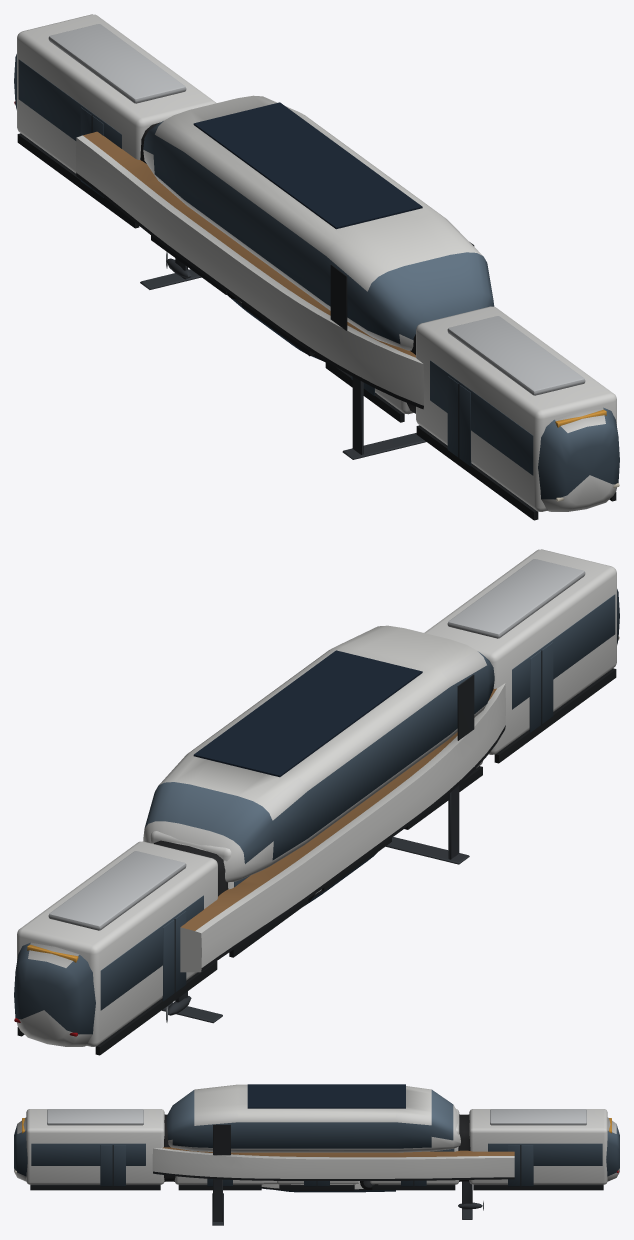
The model's file is vehicles.glb.
3 renders of one model, top to bottom at view 1: azimuth 30°, elevation 25°; view 2: azimuth 150°, elevation 25°; view 3: azimuth 270°, elevation 25°, orthographic. The views are drawn at different scales.
Parts seen in each view (by area): view 1: hydrofoil, tram; view 2: hydrofoil, tram; view 3: hydrofoil, tram, watertaxi.
Boxes of the visible parts, x1=… form: hydrofoil: x1=75, y1=95, x2=494, y2=459; tram: x1=14, y1=14, x2=619, y2=520; hydrofoil: x1=143, y1=625, x2=505, y2=1023; tram: x1=14, y1=549, x2=619, y2=1055; hydrofoil: x1=152, y1=1084, x2=514, y2=1225; tram: x1=14, y1=1109, x2=619, y2=1190; watertaxi: x1=261, y1=1181, x2=395, y2=1192.
Bounding box in the file's own units: 4.44 × 6.44 × 30.64.
